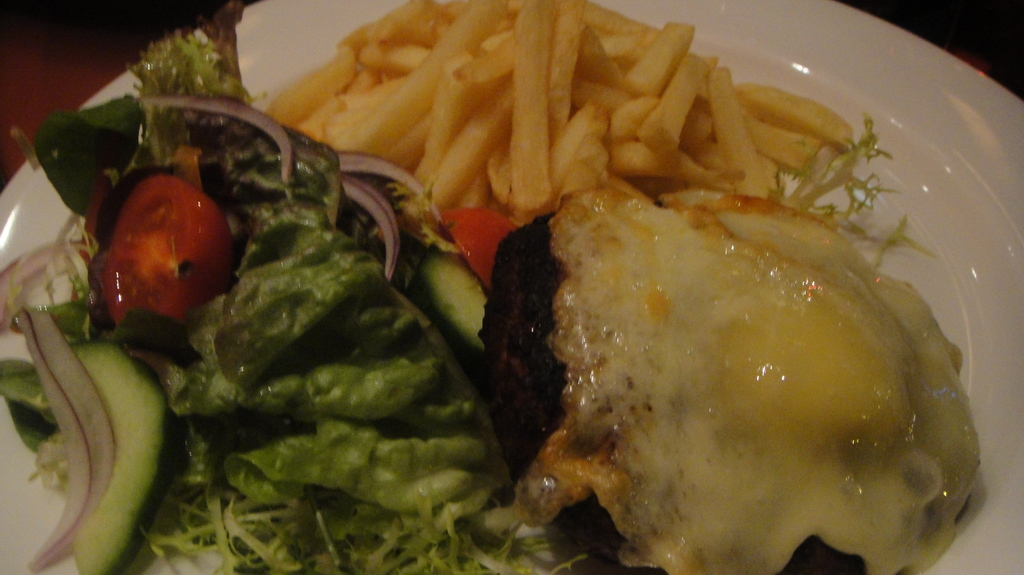French fries: (263, 0, 869, 227)
